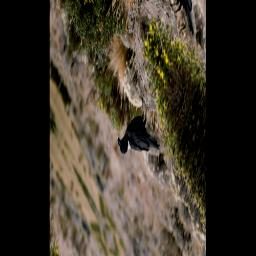Crow: (115, 78, 164, 202)
